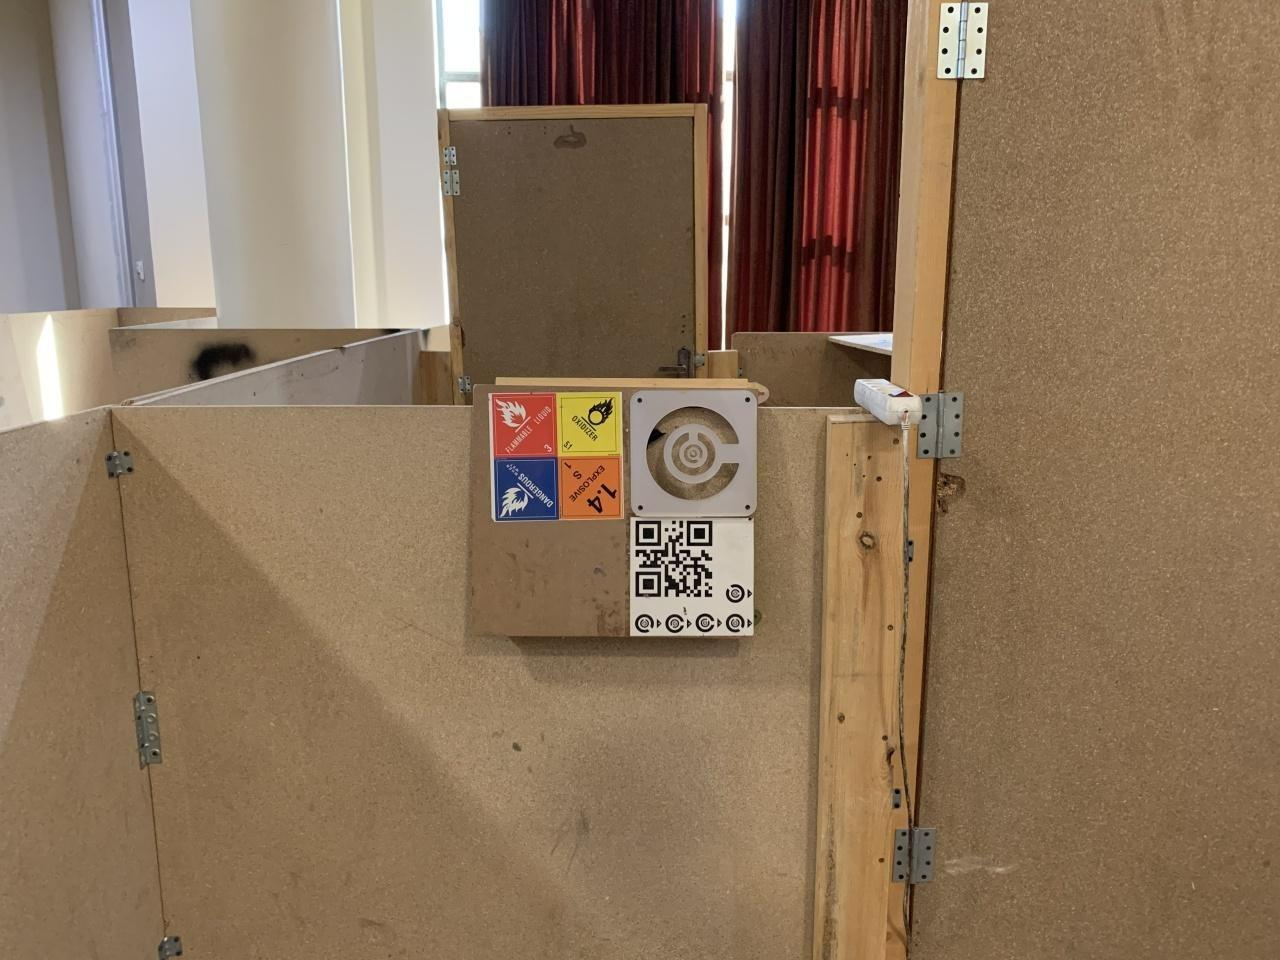dangerous-when-wet: (495, 458, 559, 524)
explosive: (561, 457, 625, 520)
flammable: (491, 395, 559, 457)
oxidizer: (560, 393, 623, 457)
